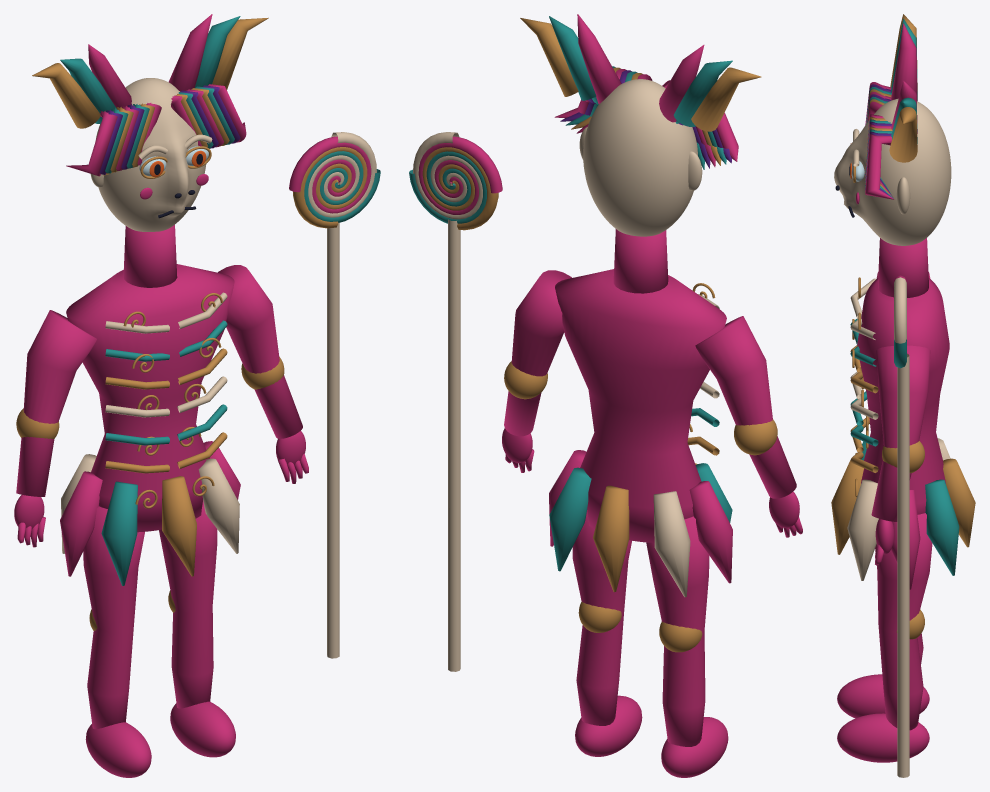
File: sally.glb
The picture shows the model from 3 angles, left to right: view 1: azimuth 30°, elevation 25°; view 2: azimuth 150°, elevation 25°; view 3: azimuth 270°, elevation 25°; orthographic projection. The views are drawn at different scales.
Parts seen in each view (by area): view 1: Sally / pink.002, Sally / ivory.002, Sally / gold.002, Sally / teal.002, Sally / purple.002; view 2: Sally / pink.002, Sally / ivory.002, Sally / gold.002, Sally / teal.002, Sally / purple.002; view 3: Sally / pink.002, Sally / ivory.002, Sally / gold.002, Sally / teal.002, Sally / purple.002.
Boxes of the visible parts, box(x1,y1,x2,y2) form: Sally / pink.002: box(14, 14, 371, 777); Sally / ivory.002: box(61, 78, 376, 658); Sally / gold.002: box(16, 17, 367, 630); Sally / teal.002: box(60, 16, 380, 585); Sally / purple.002: box(87, 85, 240, 174); Sally / pink.002: box(418, 14, 802, 777); Sally / ivory.002: box(413, 79, 719, 671); Sally / gold.002: box(422, 18, 777, 652); Sally / teal.002: box(409, 16, 732, 571); Sally / purple.002: box(560, 70, 731, 168); Sally / pink.002: box(837, 23, 949, 762); Sally / ivory.002: box(834, 98, 951, 777); Sally / gold.002: box(831, 14, 975, 639); Sally / teal.002: box(850, 19, 959, 575); Sally / purple.002: box(865, 84, 893, 198).
Size of the model in its own units: 1.33 by 2.46 by 0.4674.
